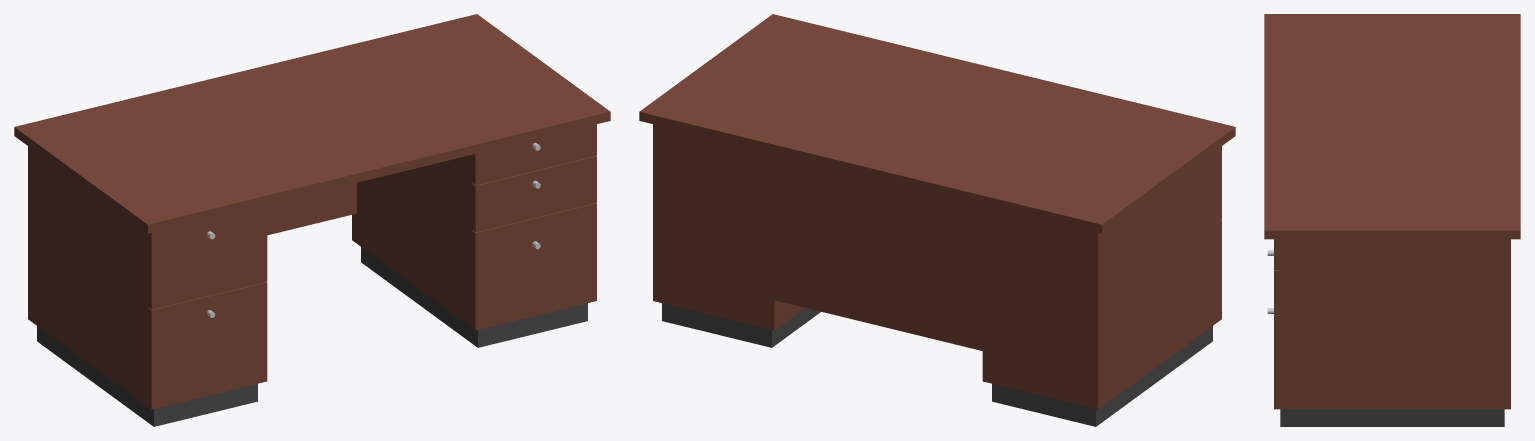
The model's file is 514_エグゼクティブデスク.glb.
3 renders of one model, left to right at view 1: azimuth 30°, elevation 25°; view 2: azimuth 150°, elevation 25°; view 3: azimuth 270°, elevation 25°, orthographic. The views are drawn at different scales.
Parts seen in each view (by area): view 1: Body, hikidashi5, hikidashi2, hikidashi1, hikidashi4, hikidashi3; view 2: Body; view 3: Body, hikidashi5, hikidashi4.
Boxes of the visible parts, x1,y1,x2,y2 form: Body: (14,14,610,426); hikidashi5: (472,203,596,330); hikidashi2: (148,282,267,409); hikidashi1: (148,205,267,309); hikidashi4: (472,156,596,232); hikidashi3: (472,124,596,185); Body: (639,14,1235,426); Body: (1264,14,1520,426); hikidashi5: (1267,308,1280,409); hikidashi4: (1267,250,1280,315).
Size of the model in its own units: 1.6 by 0.7 by 0.8.
